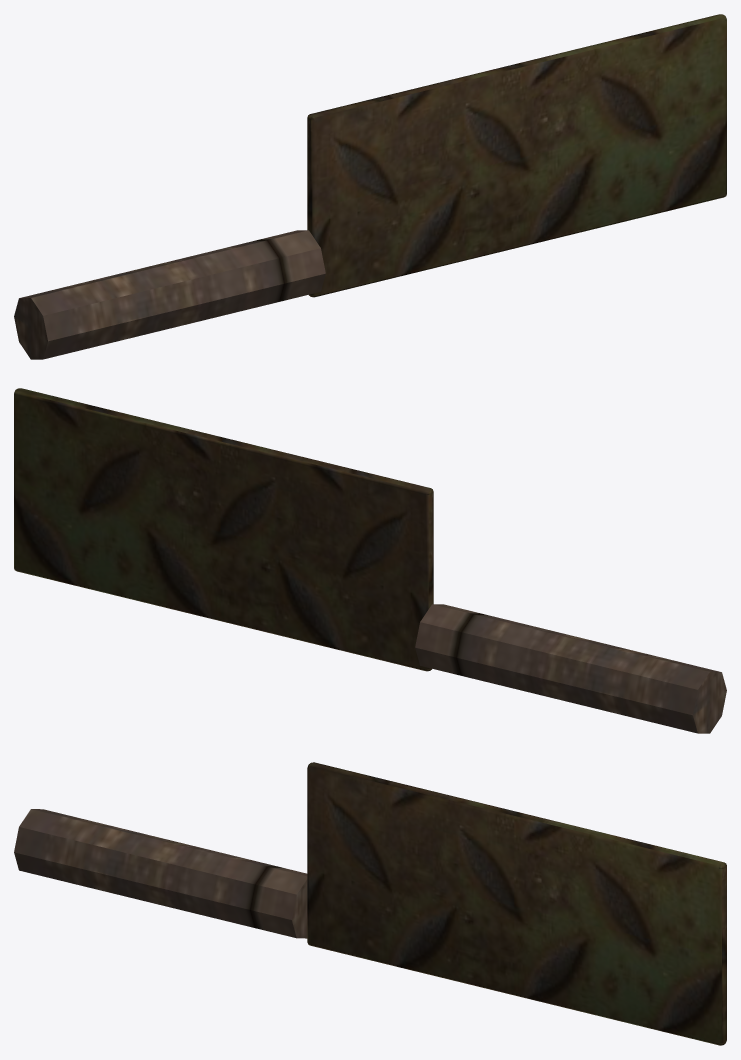
The model's file is held_weapon_cleaver.glb.
3 renders of one model, top to bottom at view 1: azimuth 30°, elevation 25°; view 2: azimuth 150°, elevation 25°; view 3: azimuth 330°, elevation 25°, orthographic.
Visible parts, largest first — view 1: box, cyl; view 2: box, cyl; view 3: box, cyl.
Part boxes in pixels (x1,y1,x2,y2): box: [307, 14, 726, 297]; cyl: [14, 230, 325, 359]; box: [14, 388, 433, 671]; cyl: [415, 604, 726, 733]; box: [307, 762, 726, 1045]; cyl: [14, 809, 307, 938].
Bounding box in the file's own units: 0.4 × 0.1 × 0.034.
2 materials, 2 textured.
